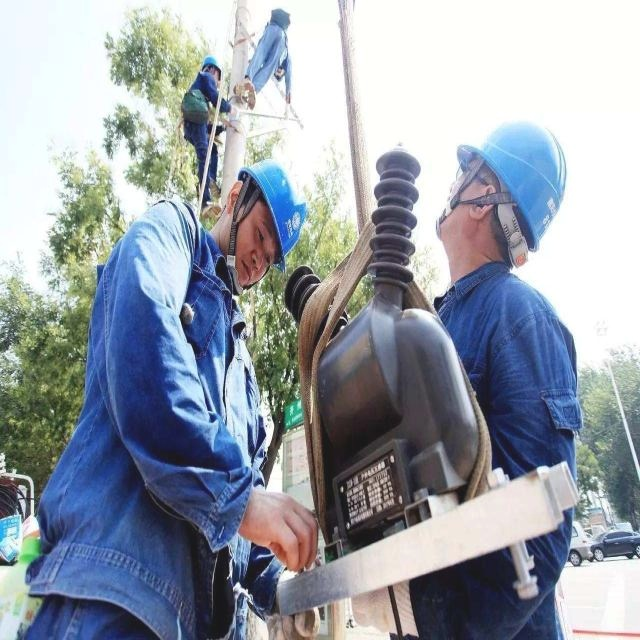Con_Casco: (226, 155, 309, 270)
